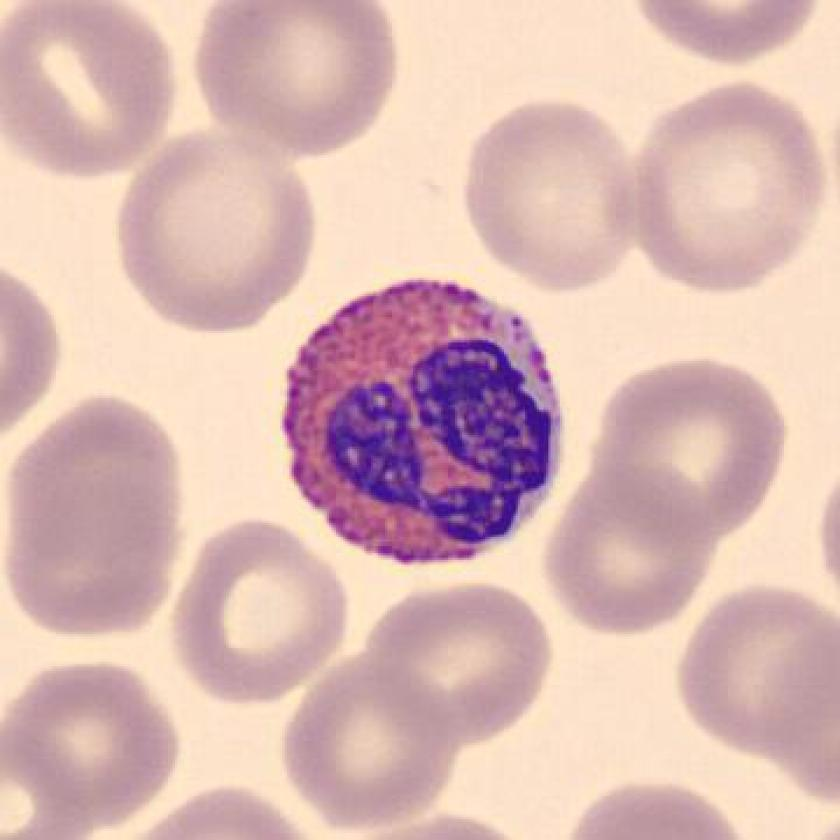eosinophil: (262, 265, 580, 582)
